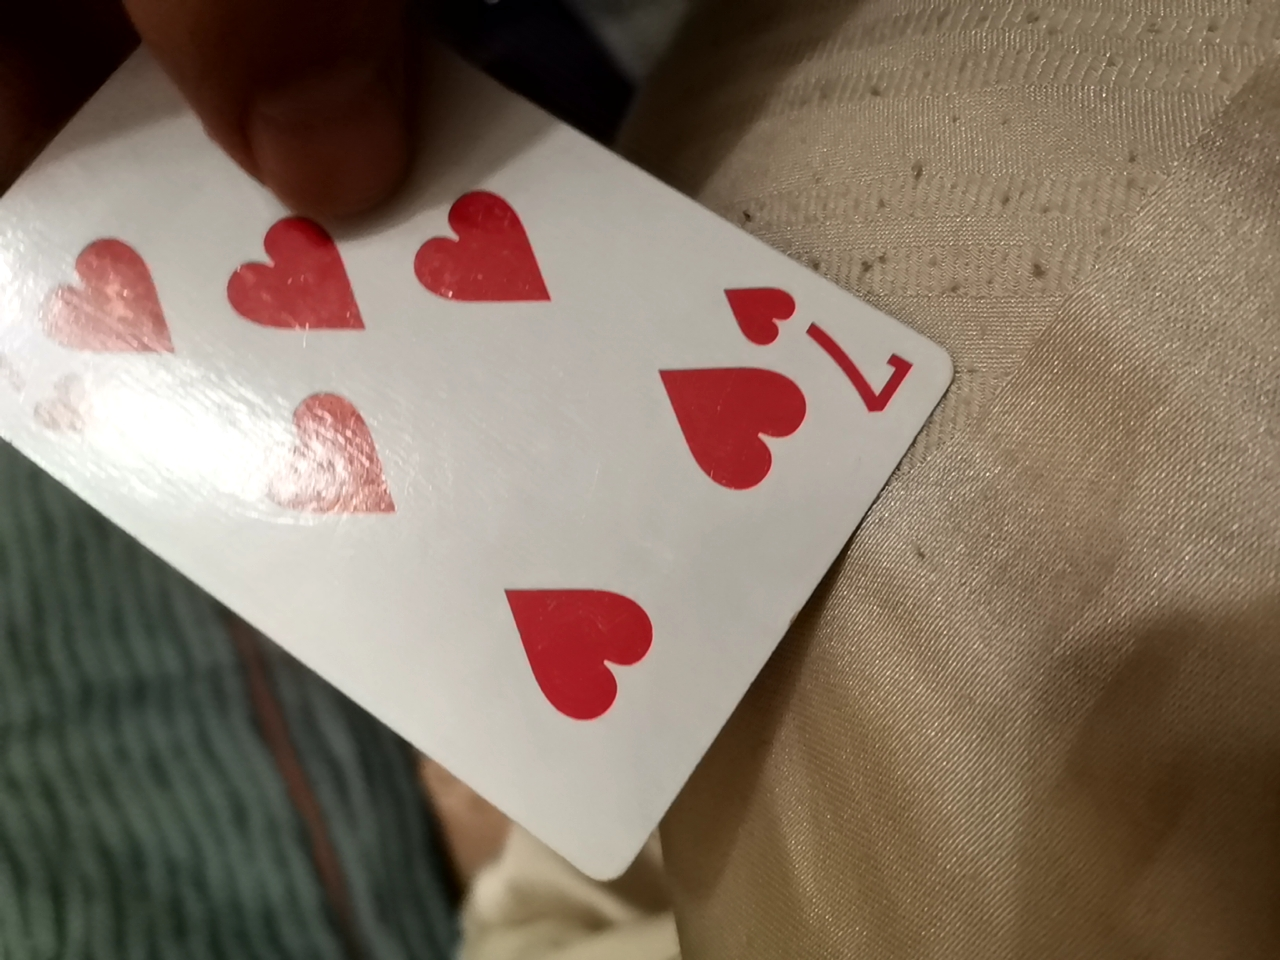hx 7: (72, 101, 967, 909)
